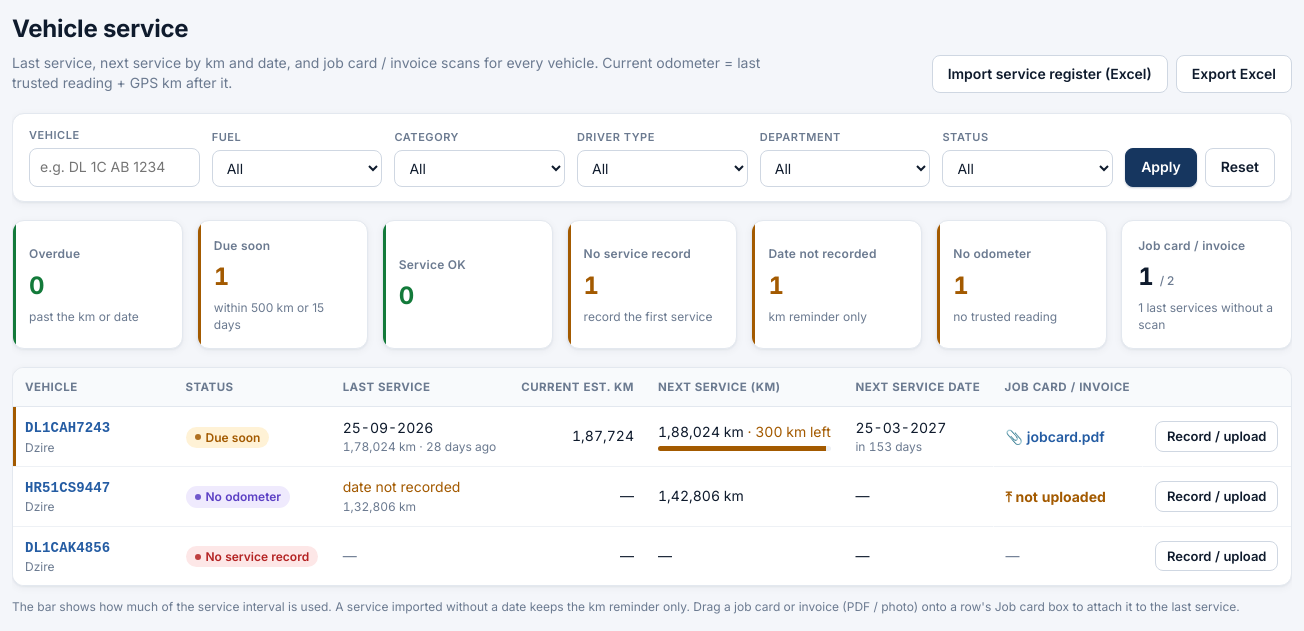
Scenario: Vehicle service portal › shows last and next service, scans and filters from the cards
The image size is (1304, 631).
expect the text "· 300 km left" is shown: met, box left=744, top=423, right=831, bottom=440
expect the text "date not recorded" is shown: met, box left=343, top=478, right=460, bottom=496
What coordinates should you click on to do the following:
click the button with aria-label "Show Date not recorded"
I would click on:
 (837, 284)
Its box is left=751, top=220, right=922, bottom=349.
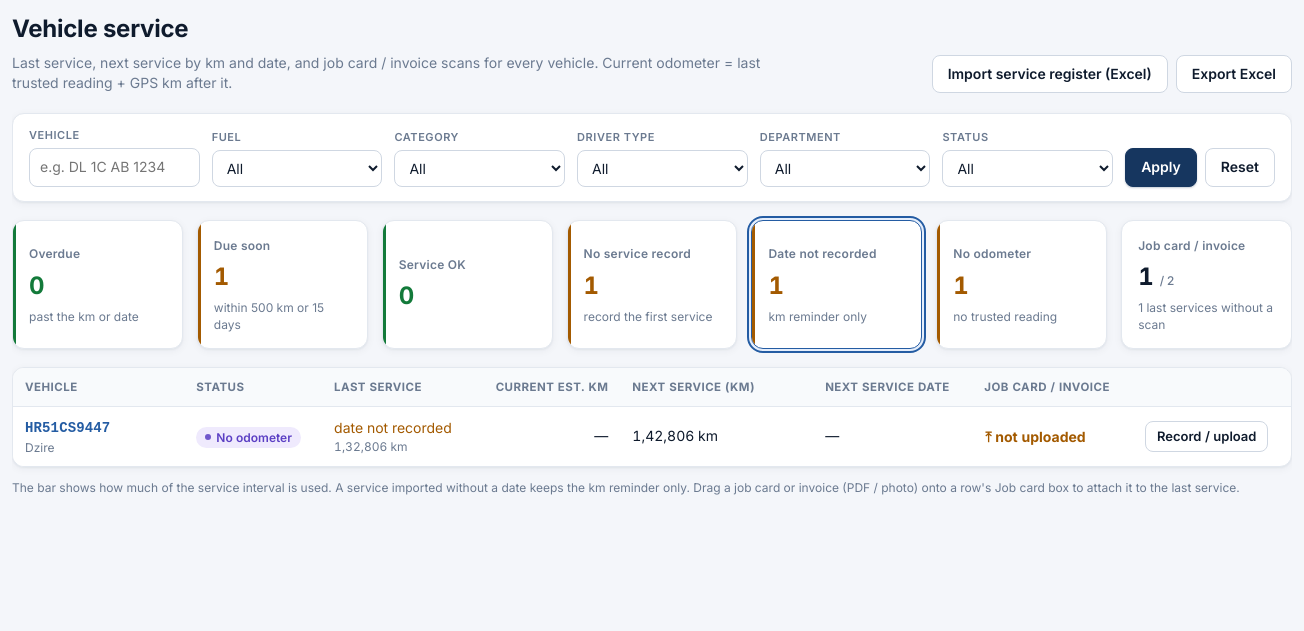
expect the link "HR51CS9447" is shown: met, box left=25, top=420, right=110, bottom=436
expect the link "DL1CAH7243" is gone: met
